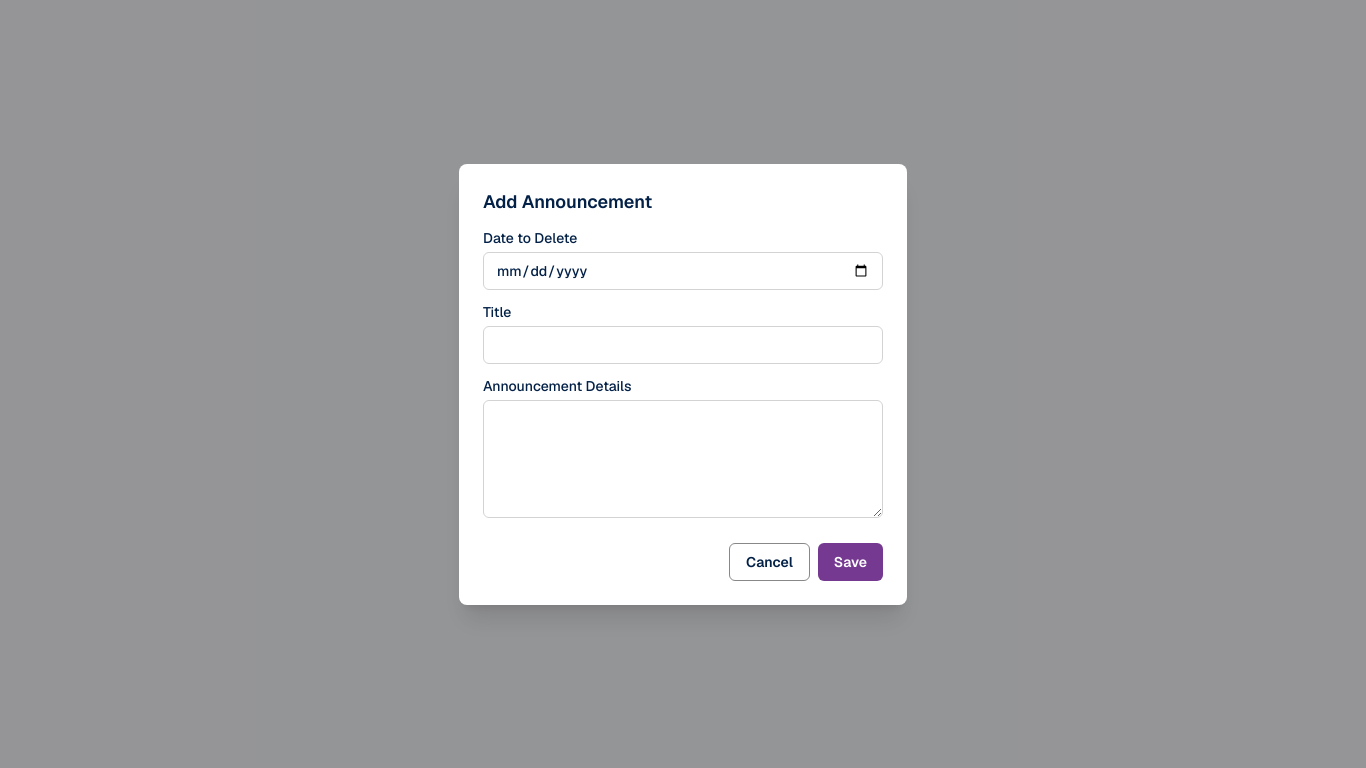
it: AnnouncementFormModal › blocks save when only the date is missing
Type "T" into the field labelled "Title".
click(683, 344); type("T")  # box [483,326,883,364]
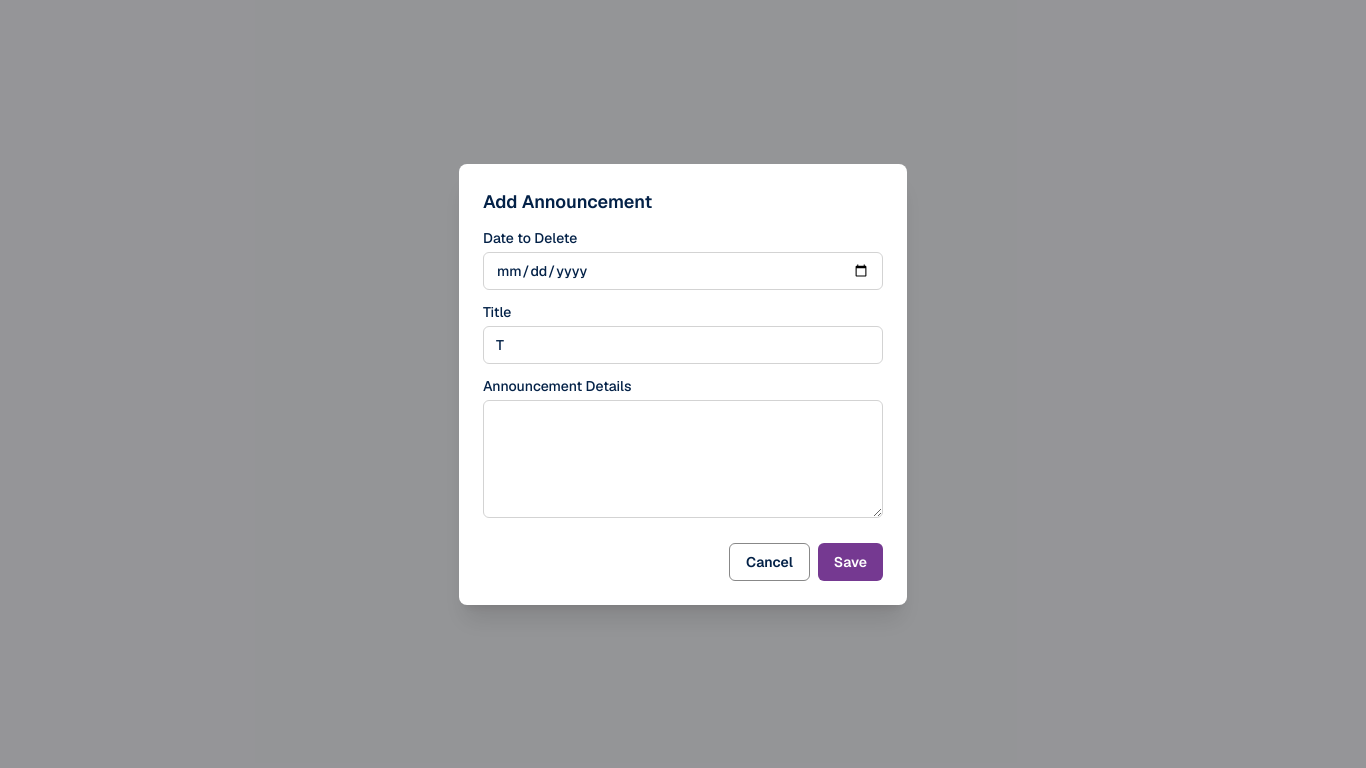
Type "D" into the text box labelled "Announcement Details".
click(683, 458); type("D")  # box [483,400,883,518]
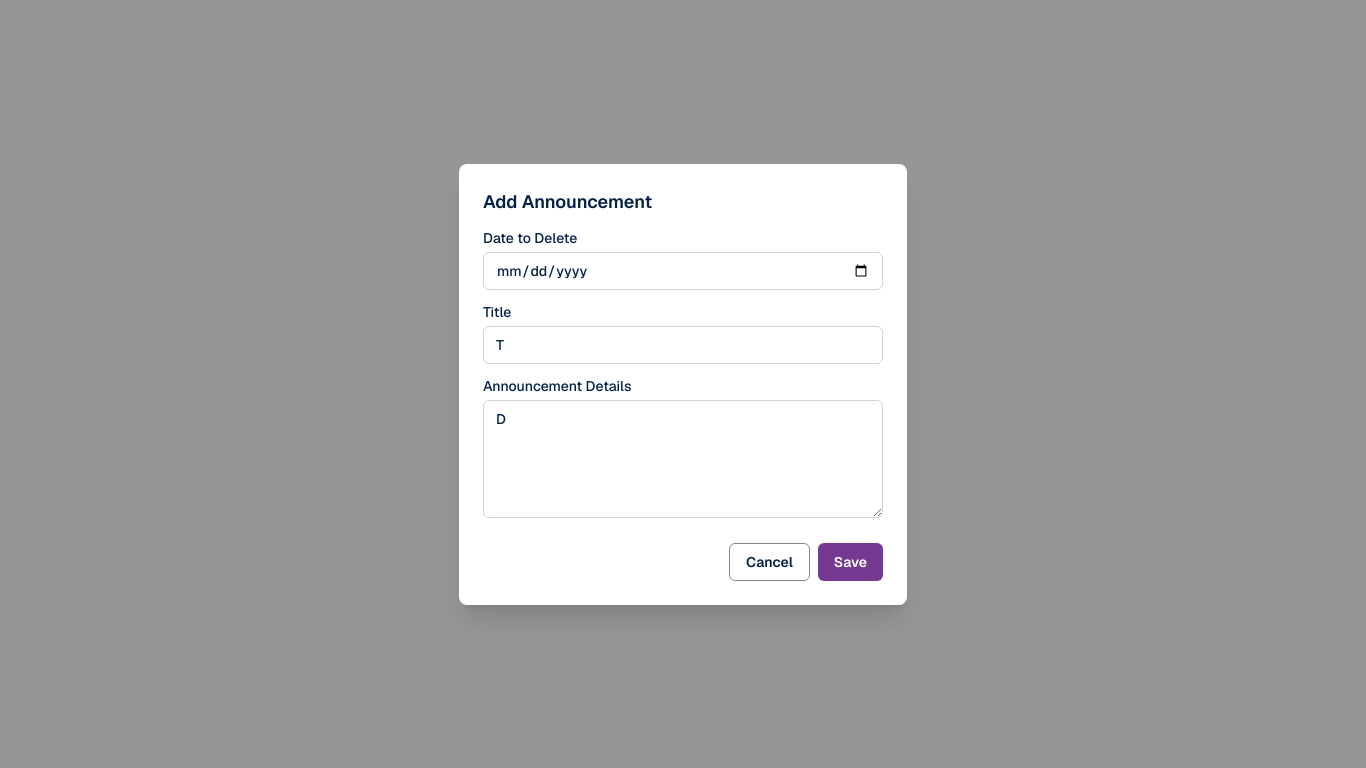
Click the button "Save".
click(850, 562)  # box [818,542,883,580]
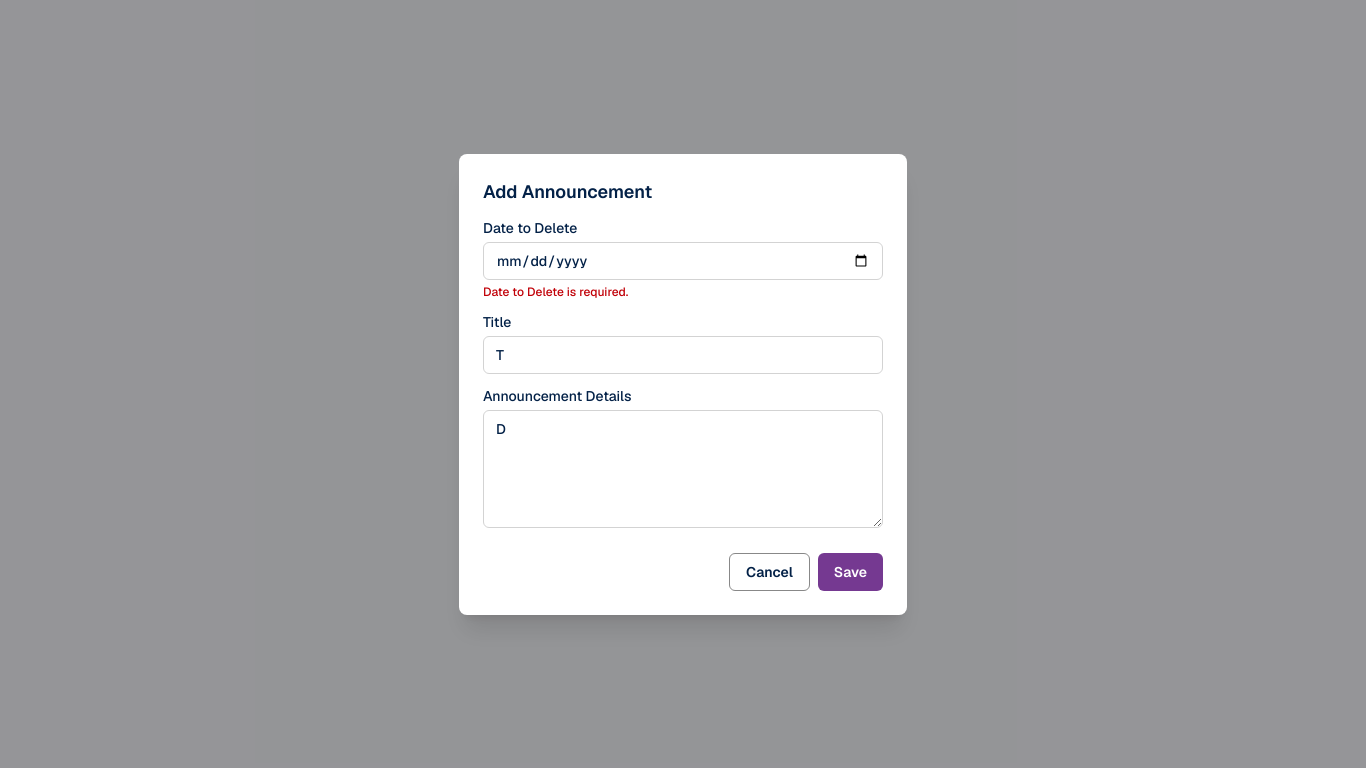
Check: the text "Date to Delete is required." is shown, box [483,284,628,300]
